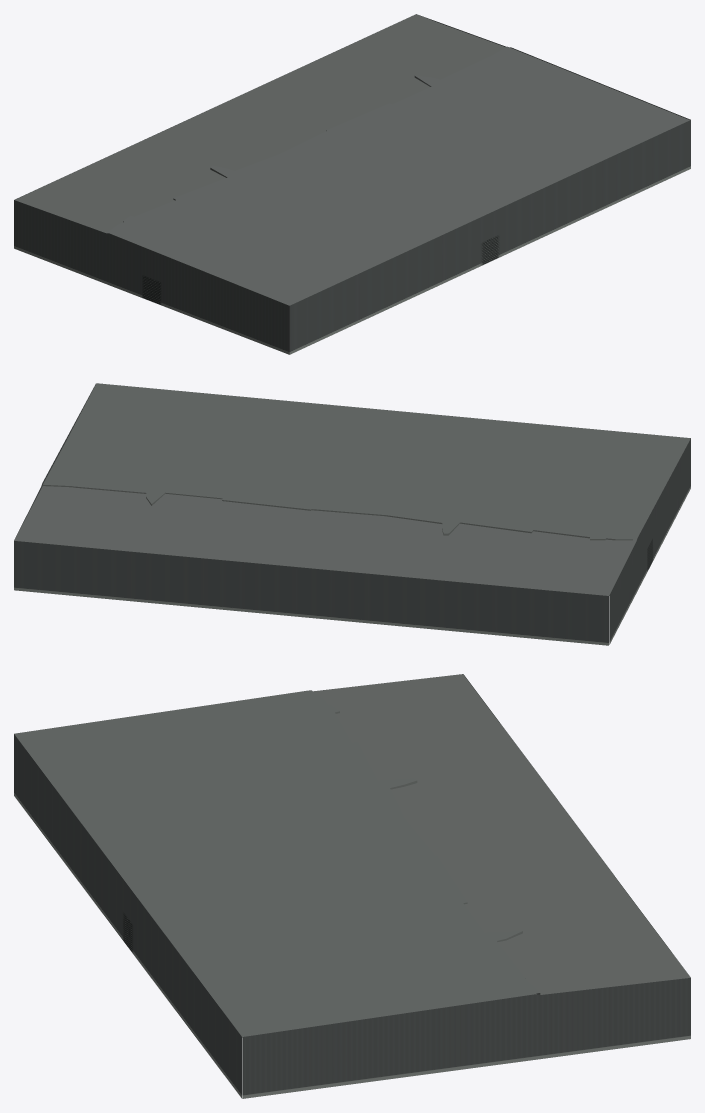
The picture shows the model from 3 angles, top to bottom: view 1: azimuth 30°, elevation 25°; view 2: azimuth 150°, elevation 25°; view 3: azimuth 270°, elevation 25°; orthographic projection. The views are drawn at different scales.
Visible parts, largest first — view 1: 0363100012183449; view 2: 0363100012183449; view 3: 0363100012183449.
Part boxes in pixels (x1=…): 0363100012183449: x1=14, y1=14, x2=690, y2=354; 0363100012183449: x1=14, y1=383, x2=690, y2=645; 0363100012183449: x1=14, y1=674, x2=690, y2=1098.
Size of the model in its own units: 137 by 11.61 by 108.
Materials: 2 (1 with a texture image).
